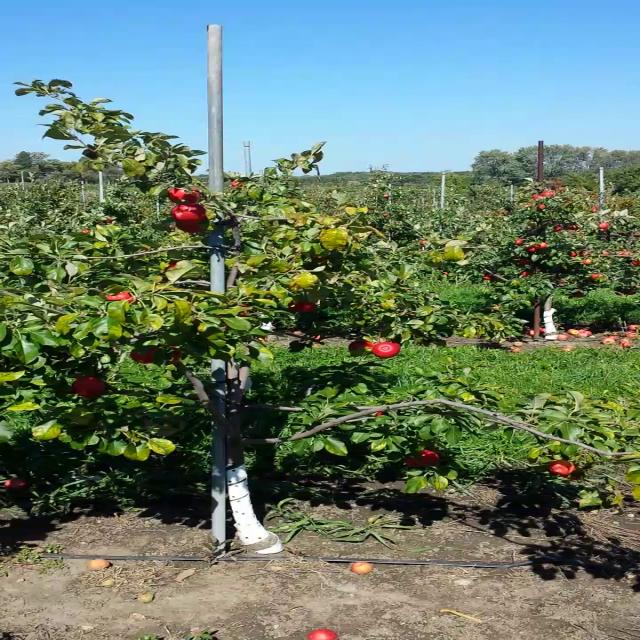apple: (72, 376, 105, 397), (172, 203, 207, 221), (405, 450, 439, 468), (167, 185, 199, 203), (174, 218, 210, 232), (127, 347, 158, 363), (547, 460, 577, 476), (372, 341, 400, 358), (106, 290, 136, 304), (289, 300, 315, 312), (348, 340, 372, 350), (169, 346, 184, 362), (165, 260, 179, 268)
